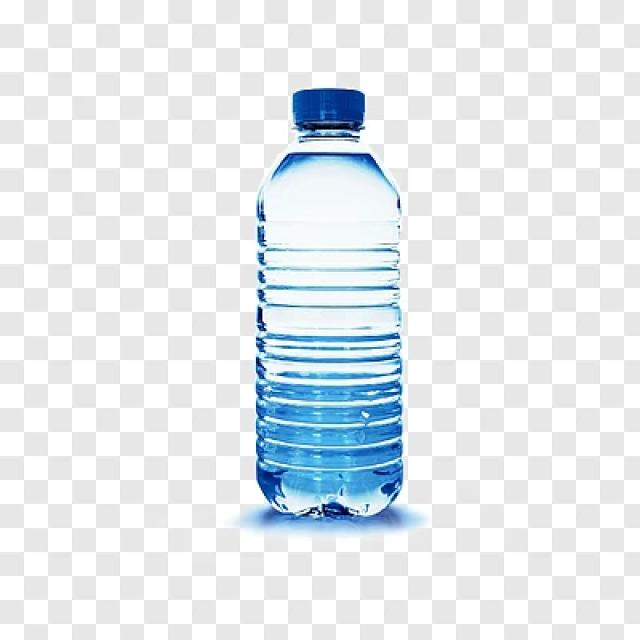Bottle: (252, 84, 410, 522)
